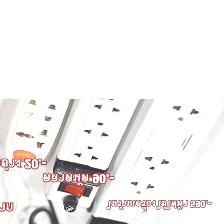three_eye_plug: (87, 71, 224, 223), (39, 71, 147, 217), (0, 71, 81, 177)
